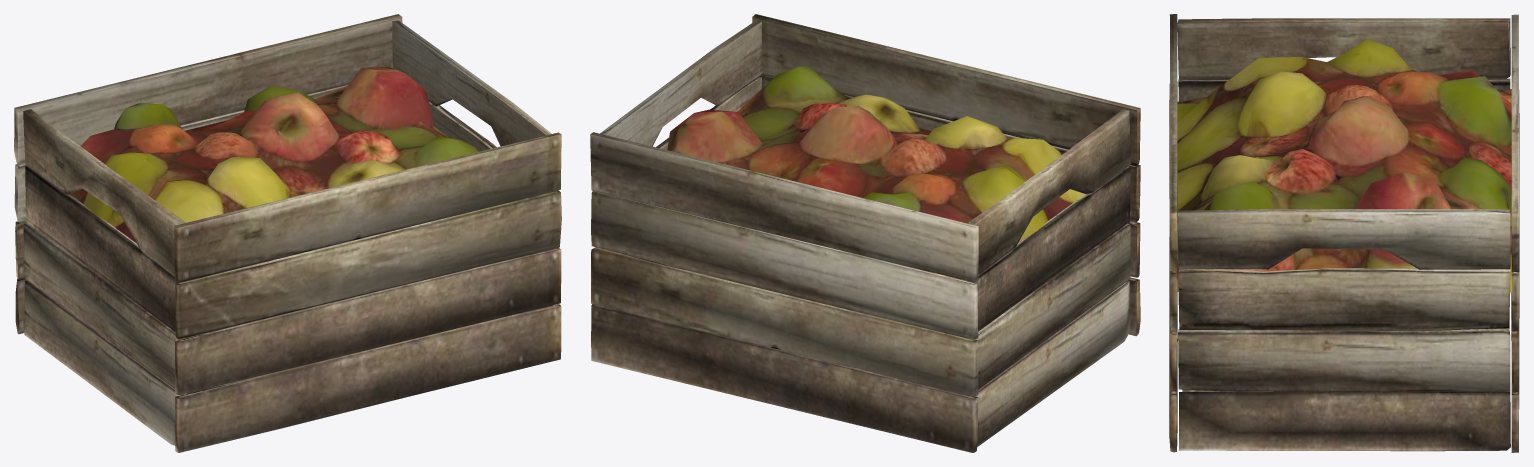
The model's file is applecrate_a.glb.
3 renders of one model, left to right at view 1: azimuth 30°, elevation 25°; view 2: azimuth 150°, elevation 25°; view 3: azimuth 270°, elevation 25°, orthographic. The views are drawn at different scales.
Visible parts, largest first — view 1: AppleCrate_A; view 2: AppleCrate_A; view 3: AppleCrate_A.
Boxes of the visible parts, left/top/right/bottom form: AppleCrate_A: left=14, top=14, right=561, bottom=452; AppleCrate_A: left=590, top=14, right=1140, bottom=452; AppleCrate_A: left=1169, top=14, right=1519, bottom=452.
Size of the model in its own units: 0.5677 by 0.3406 by 0.4198.
2 materials, 2 textured.
